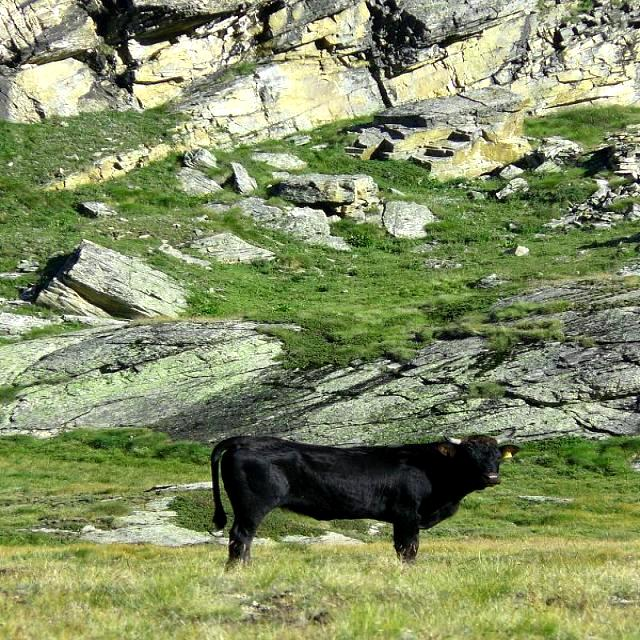COW: (212, 432, 518, 564)
